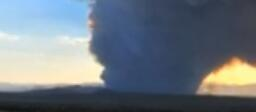yanwu: (83, 0, 254, 94)
